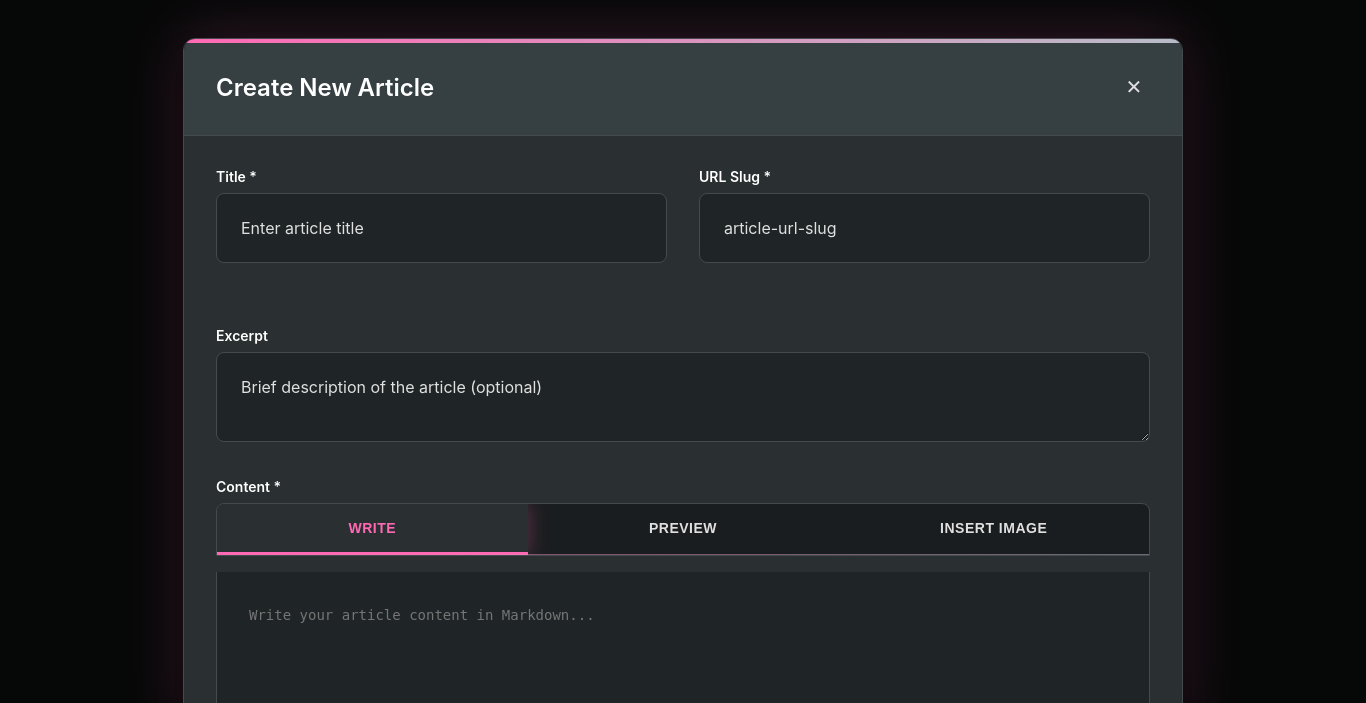
Test: ArticleEditor › Form Validation › requires title, slug, and content
Type "Test Title" into the field with id "title".
click(442, 228); type("Test Title")  # box [216,193,667,263]
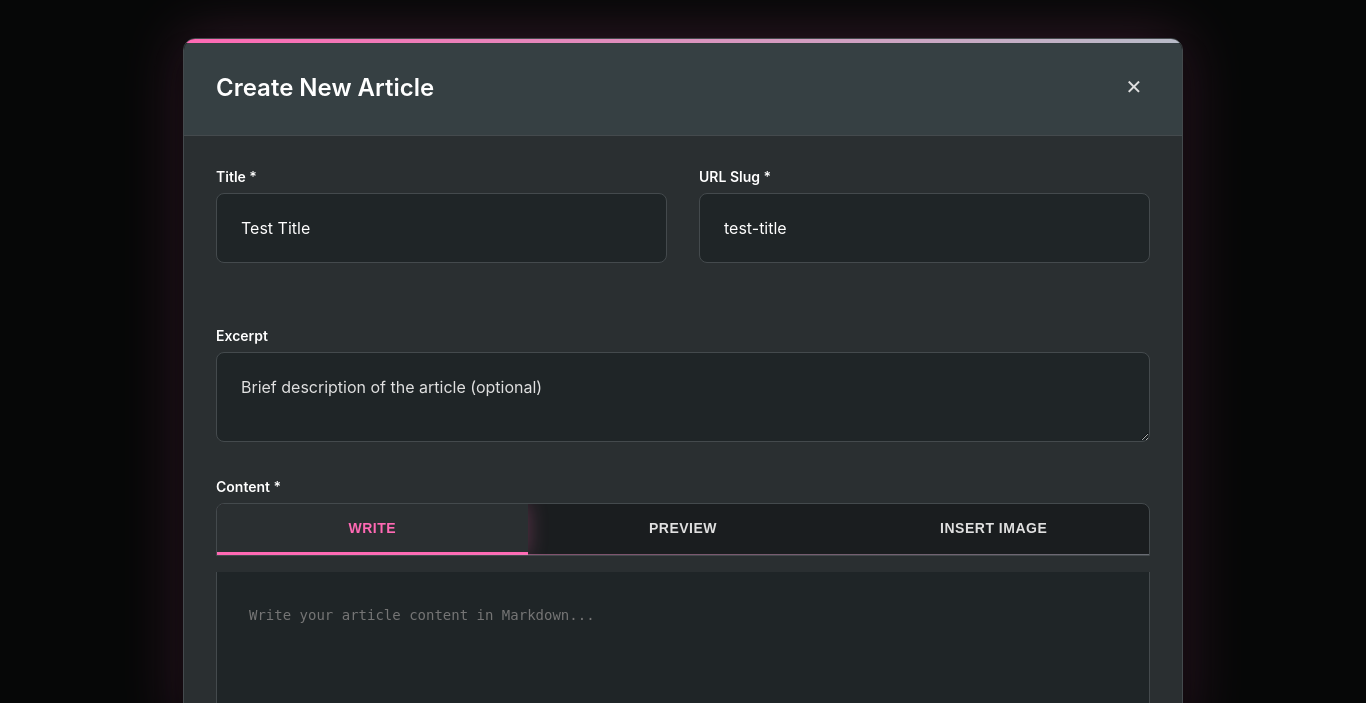
Replace the text in the field with id "slug" with "test-slug" at (924, 228), box [699,193,1150,263]
(page scrolled)
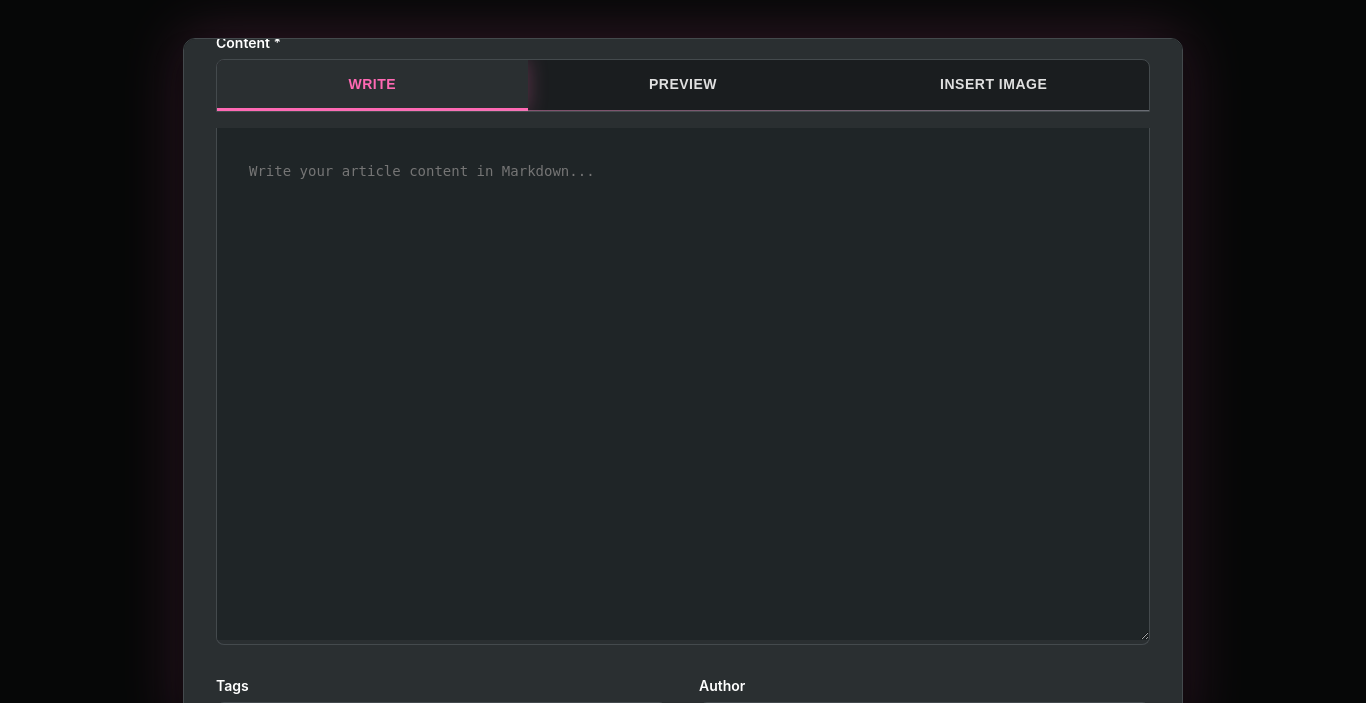
Type "Content here" into the text box labelled "Content *".
click(683, 384); type("Content here")  # box [217,128,1149,640]
(page scrolled)
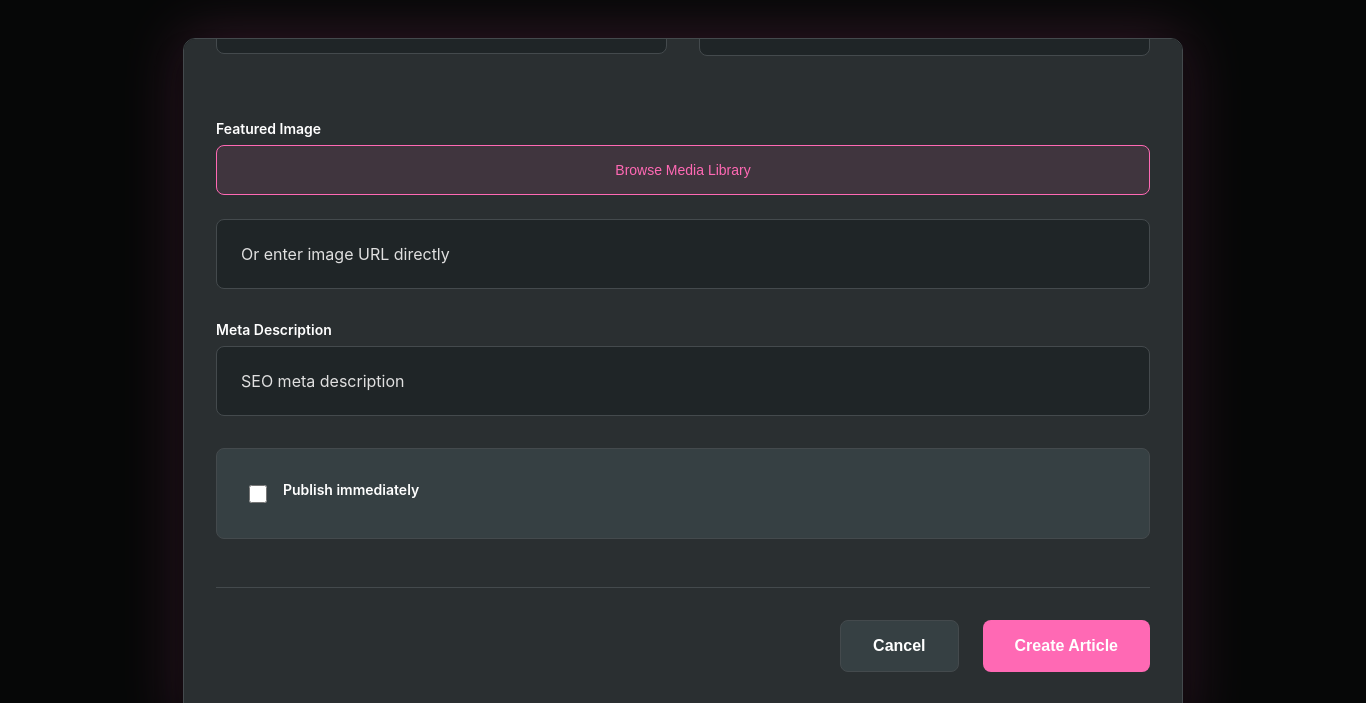
Result: the submit button is enabled at [982,620,1150,672]
